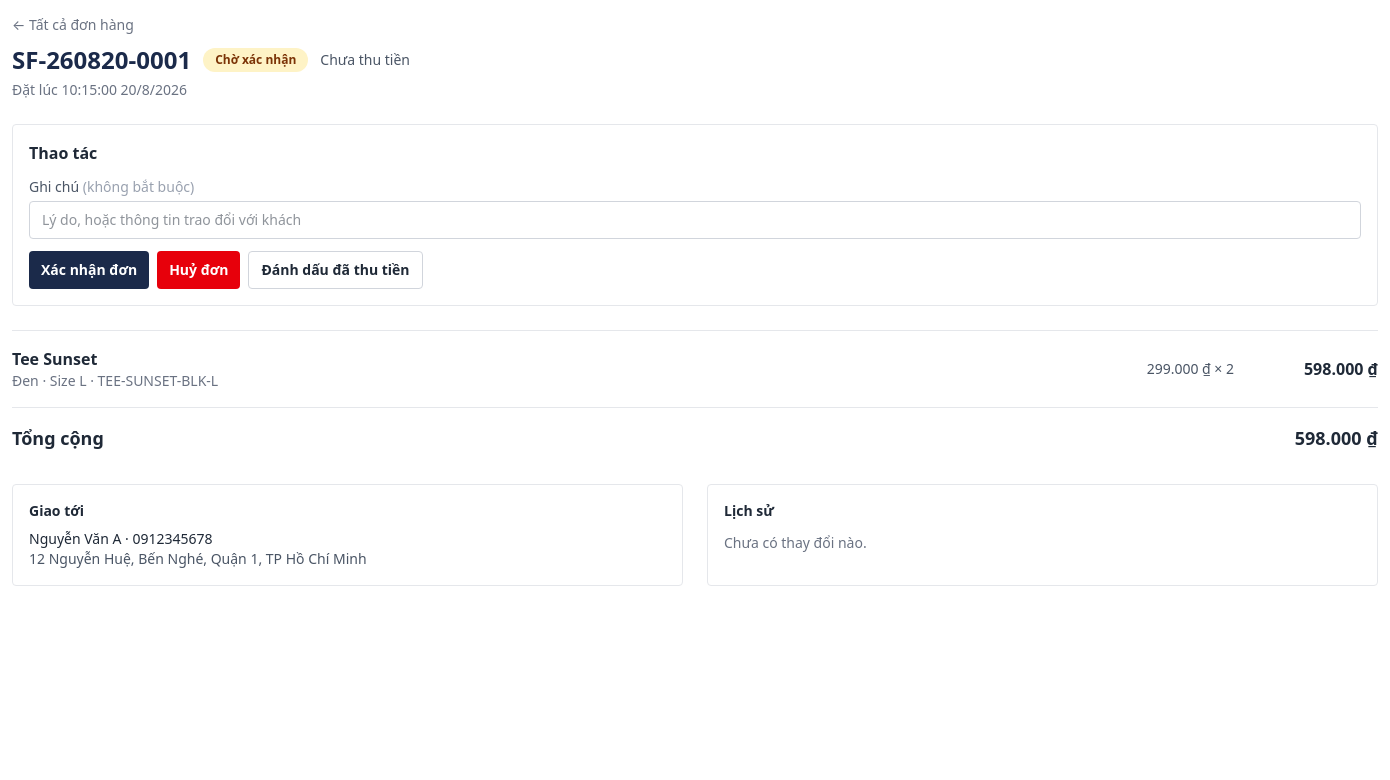
Test: AdminOrderDetailPage › máy chủ từ chối thao tác thì hiện thông báo của máy chủ
This screenshot has width=1390, height=780.
Click the button "Xác nhận đơn".
click(89, 270)  # box [29,251,149,289]
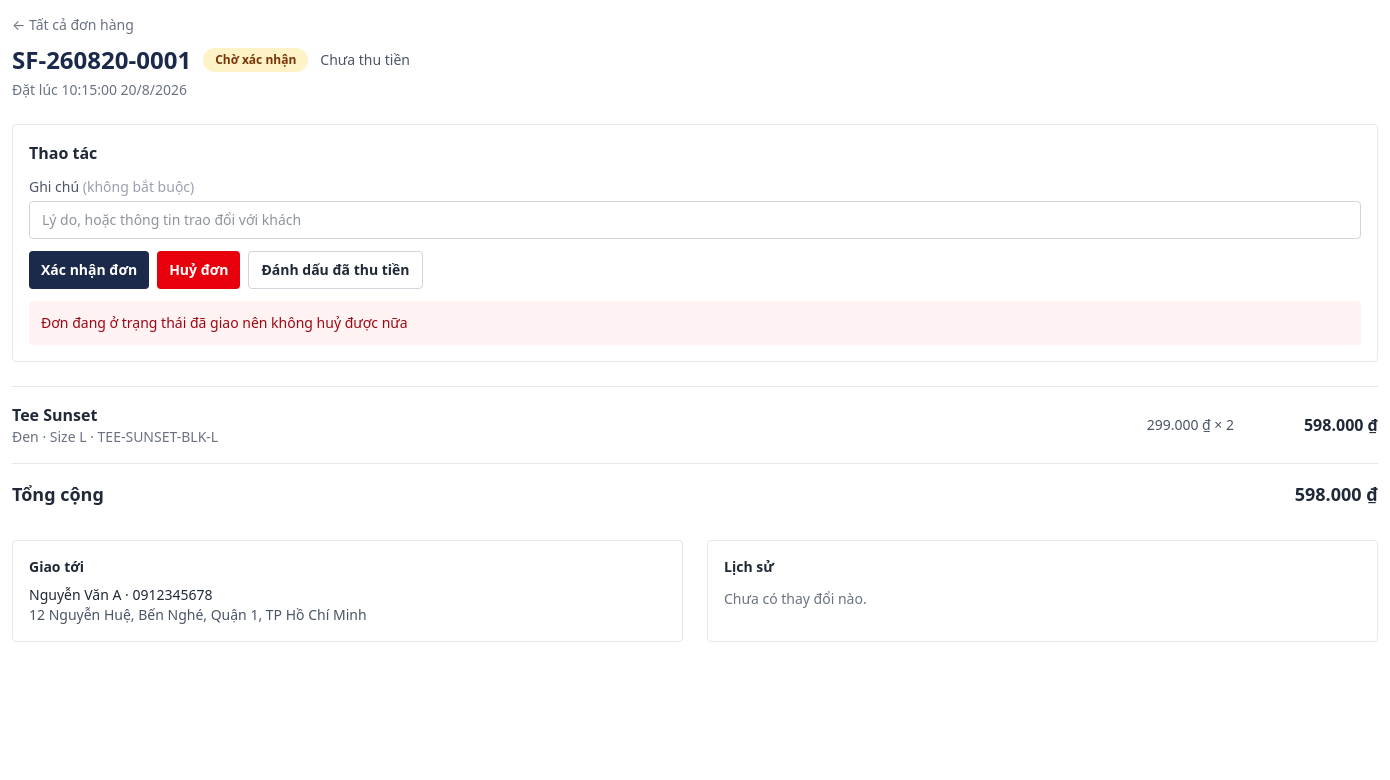
Result: the message "Đơn đang ở trạng thái đã giao nên không huỷ được nữa" is shown at [29,301,1361,345]
